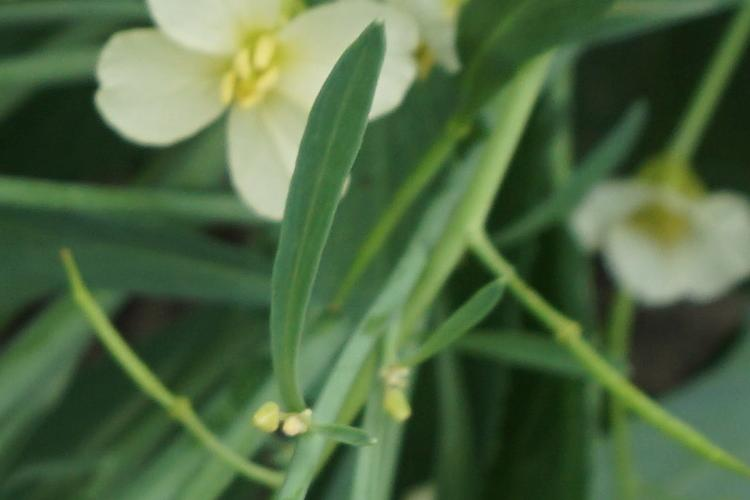white: (96, 2, 425, 197), (585, 153, 750, 309)
